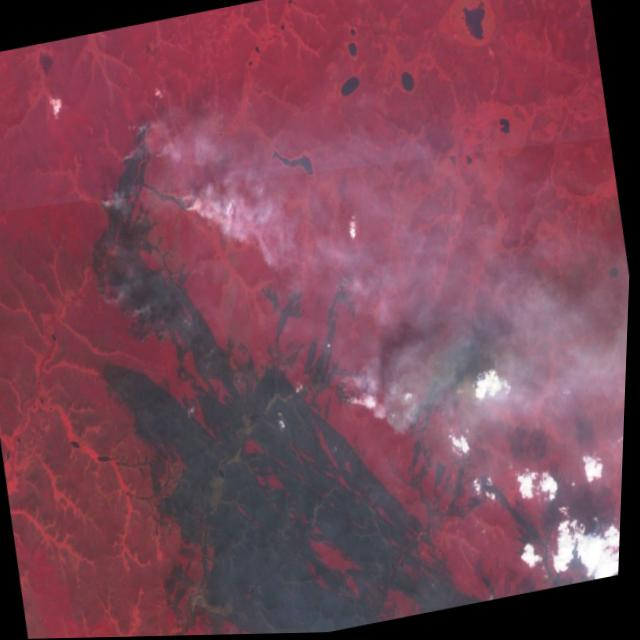fire: (423, 330, 504, 434), (327, 260, 370, 331), (328, 372, 368, 424), (87, 183, 125, 229)
